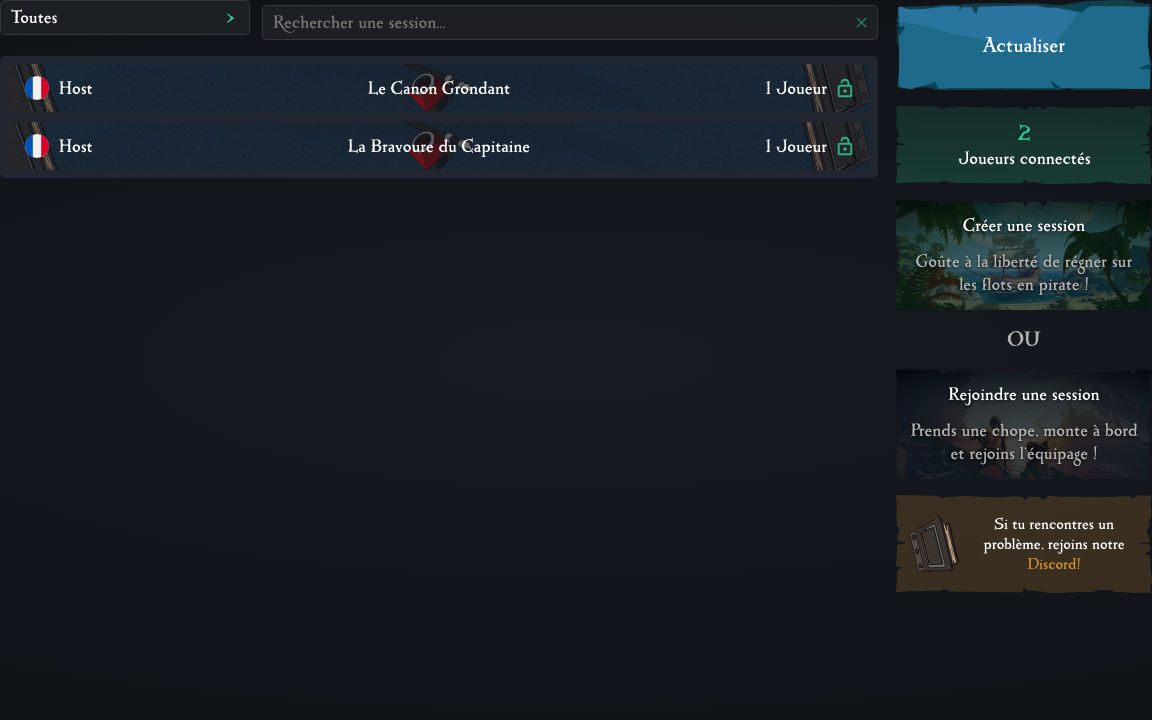
Scenario: public sessions browser, against a fake backend › searches on the name the player actually reads, not the seed
The width and height of the screenshot is (1152, 720).
Check: the number of elements with class "session-row" is 2, box x1=8 y1=64 x2=870 y2=112; x1=8 y1=122 x2=870 y2=170
Type "Le Can" into the field with placeholder "Rechercher une session…" at (558, 22), box x1=273 y1=10 x2=844 y2=34
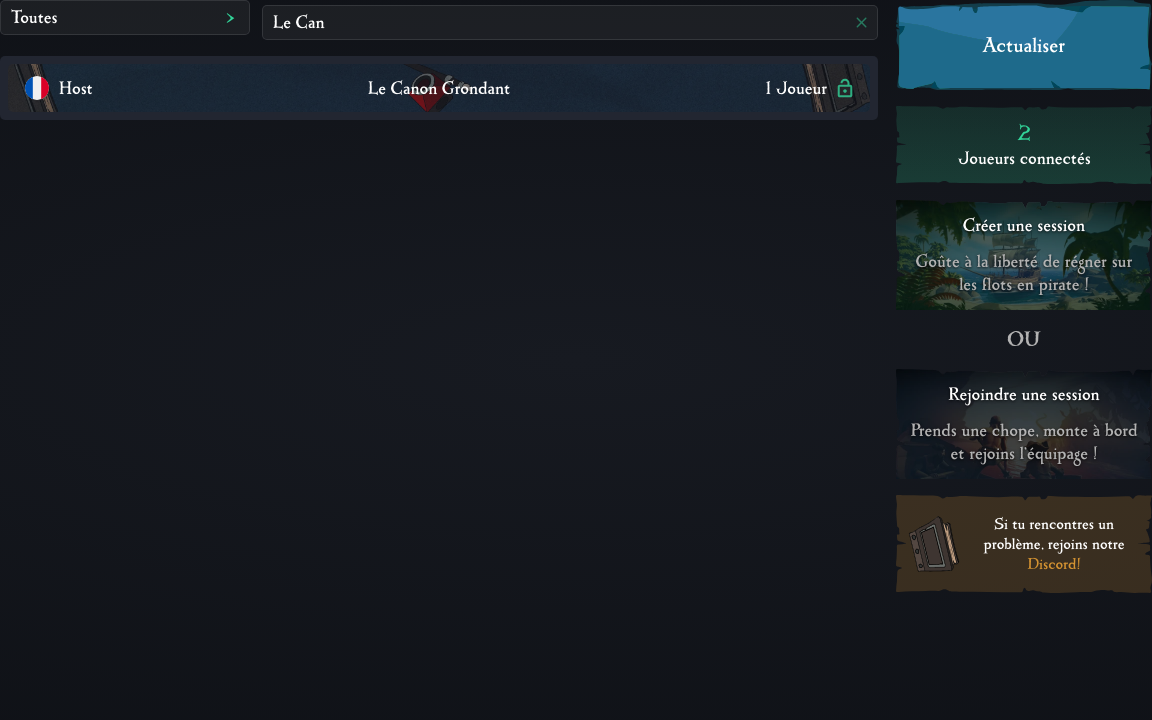
Check: the text "Le Canon Grondant" is shown, box x1=368 y1=76 x2=510 y2=100
Check: the number of elements with class "session-row" is 1, box x1=8 y1=64 x2=870 y2=112
Check: the text "La Bravoure du Capitaine" is gone
